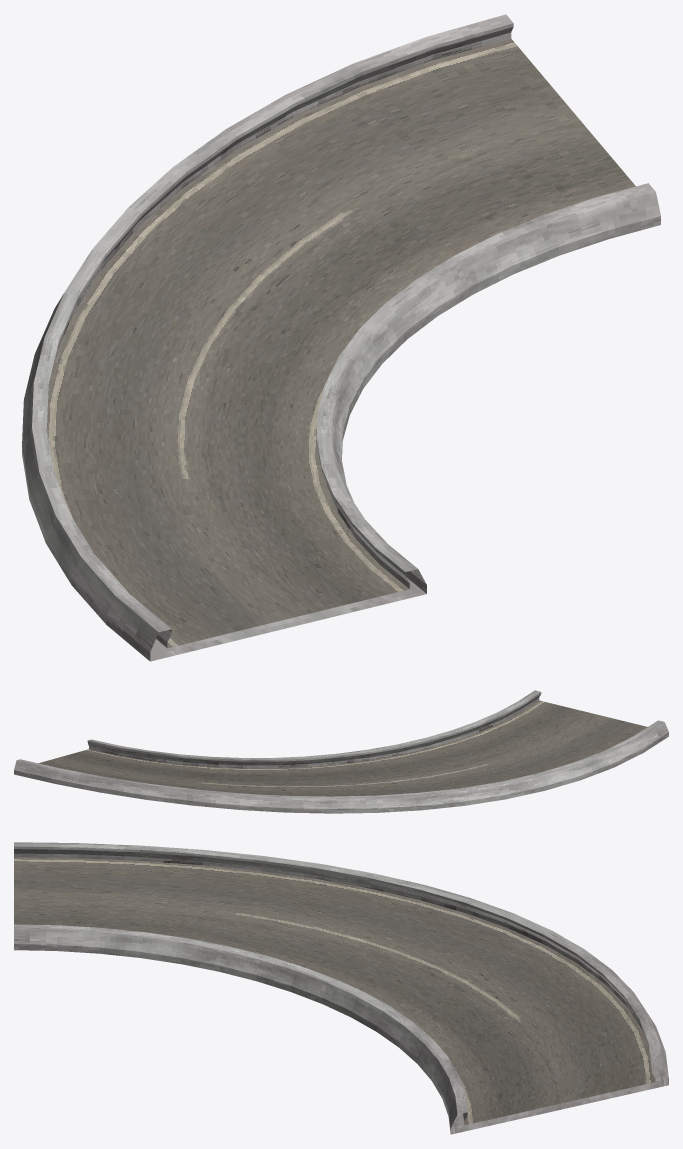
The model's file is turn-right3x3.glb.
3 renders of one model, top to bottom at view 1: azimuth 30°, elevation 25°; view 2: azimuth 150°, elevation 25°; view 3: azimuth 270°, elevation 25°, orthographic. The views are drawn at different scales.
Parts seen in each view (by area): view 1: road-Turn-Flat-HalfBankedRight-Even-Right-Size3; view 2: road-Turn-Flat-HalfBankedRight-Even-Right-Size3; view 3: road-Turn-Flat-HalfBankedRight-Even-Right-Size3.
Boxes of the visible parts, x1,y1,x2,y2 form: road-Turn-Flat-HalfBankedRight-Even-Right-Size3: (22, 14, 660, 661); road-Turn-Flat-HalfBankedRight-Even-Right-Size3: (14, 690, 668, 813); road-Turn-Flat-HalfBankedRight-Even-Right-Size3: (14, 842, 668, 1134).
Bounding box in the file's own units: 3 × 0.3359 × 3.
Materials: 2 (2 with a texture image).
